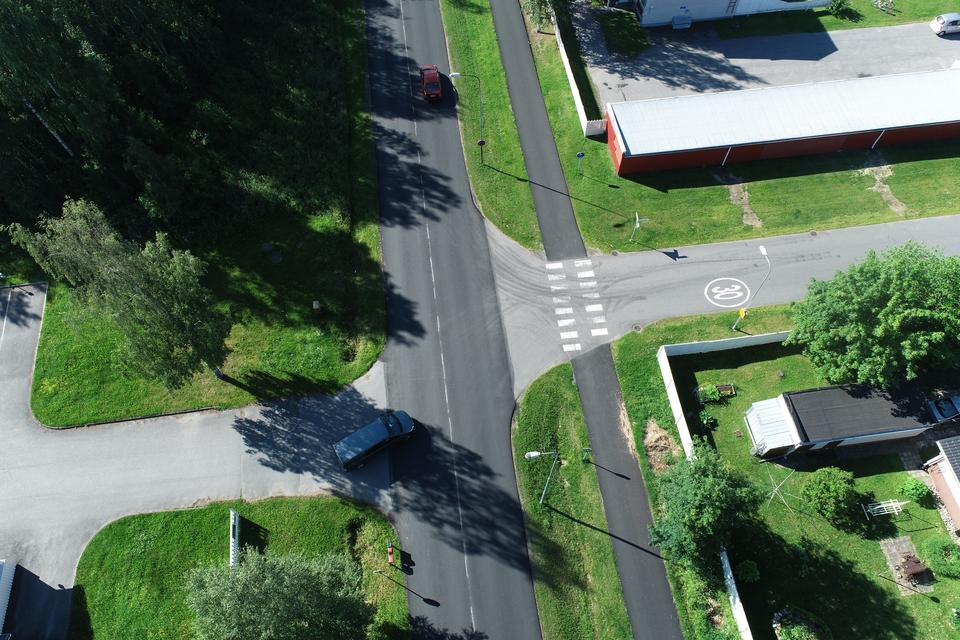intersection: (304, 219, 677, 526)
